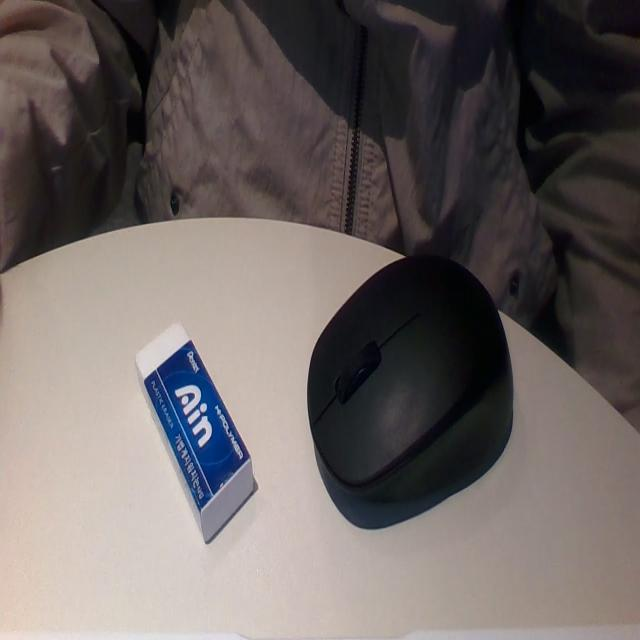eraser: (124, 328, 256, 535)
mouse: (305, 240, 518, 539)
